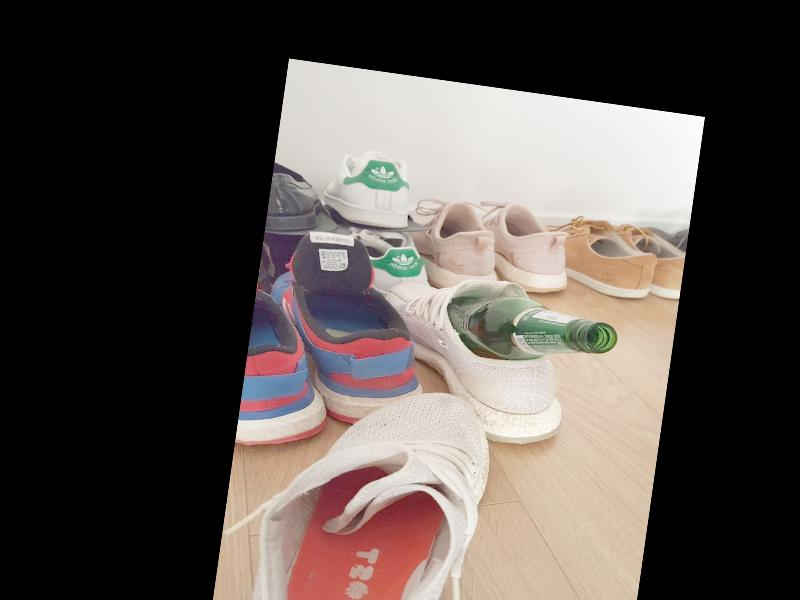Beer: (441, 289, 620, 374)
